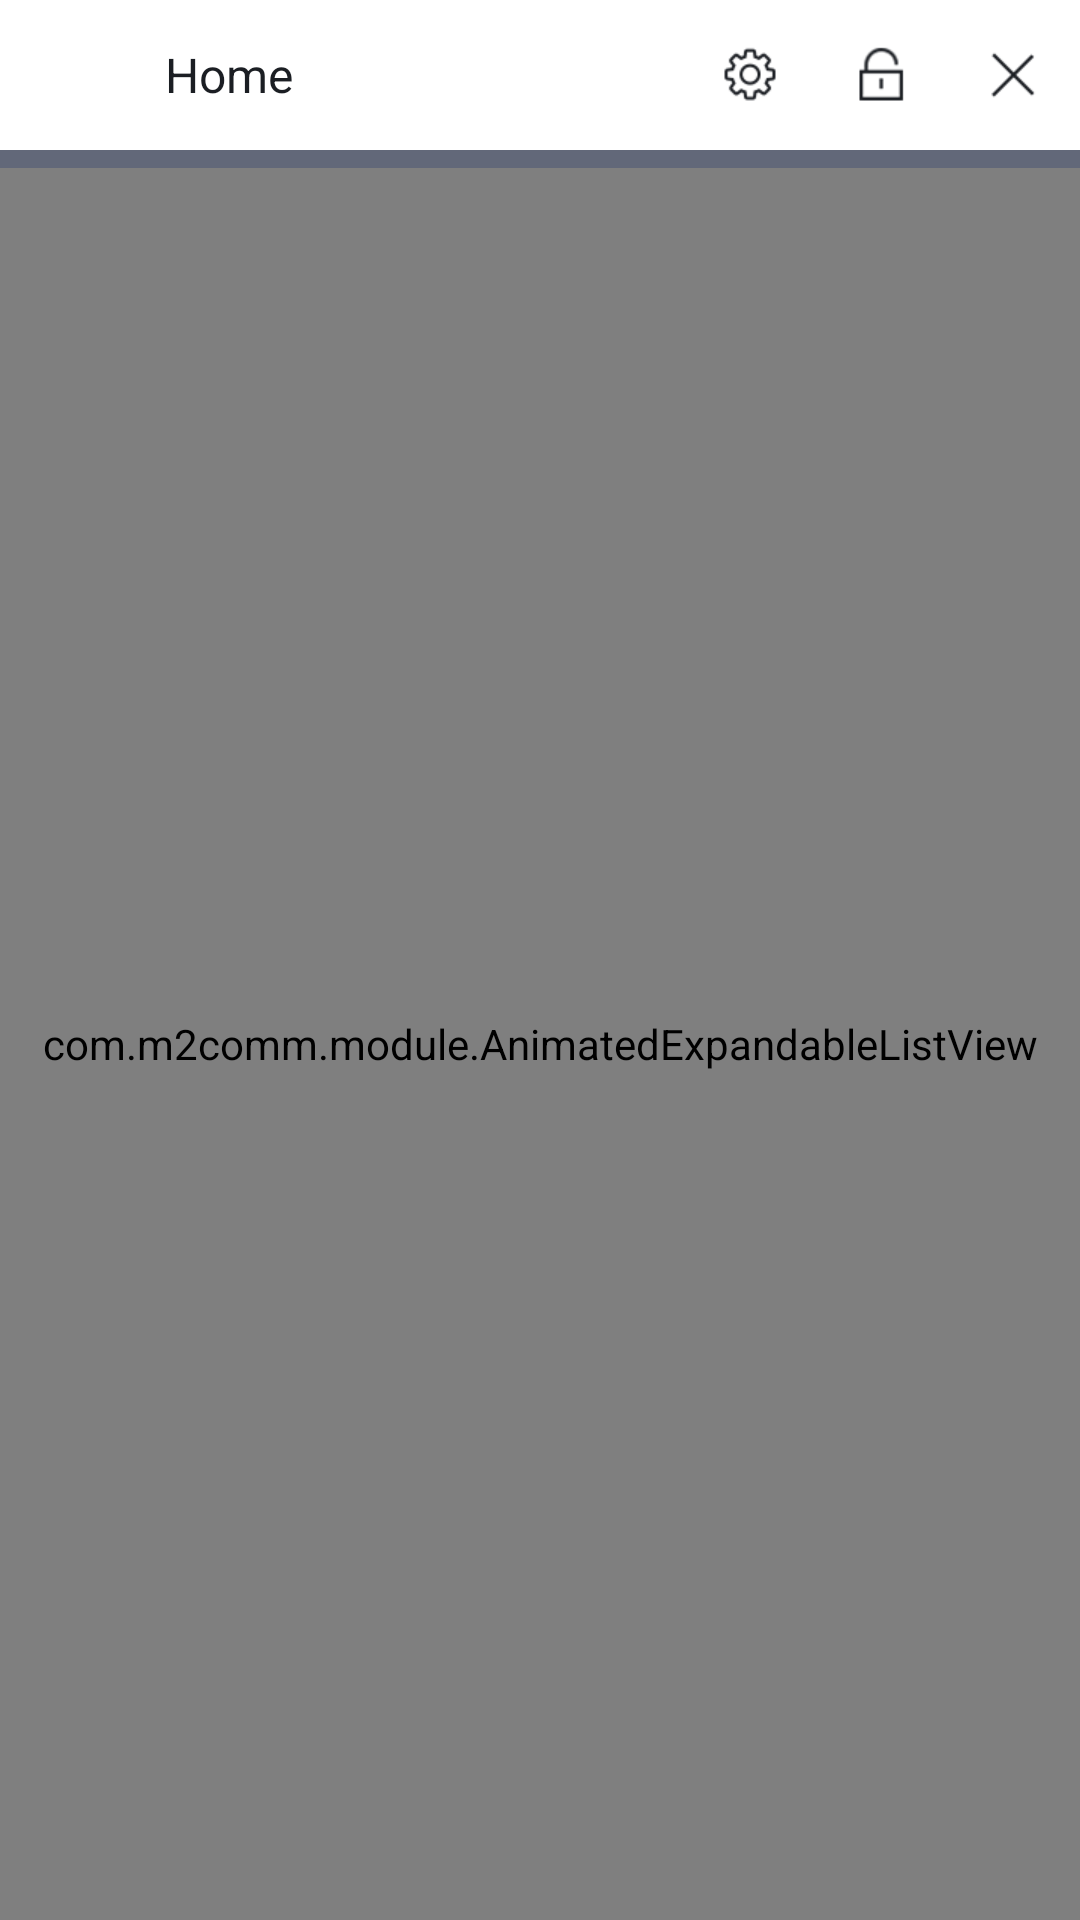

Where icons sit on this 1080w x 1920h app screen, as (x1, y1, x2, y2):
set: (724, 48, 776, 101)
